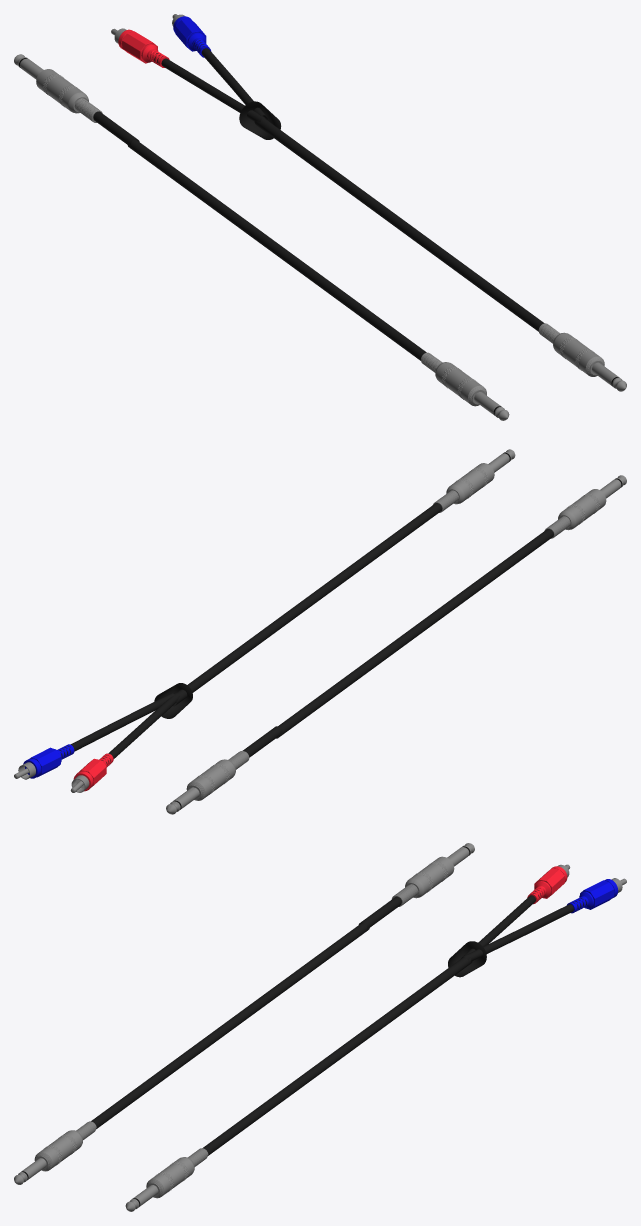
File: cables.fbx
The picture shows the model from 3 angles, top to bottom: view 1: azimuth 30°, elevation 25°; view 2: azimuth 150°, elevation 25°; view 3: azimuth 330°, elevation 25°; orthographic projection. The views are drawn at different scales.
Parts seen in each view (by area): view 1: RCA_cable.001, B_J_spring, B_J_Base.001, RCA_Base, B_J_Base, RCA_Base.001; view 2: RCA_cable.001, B_J_spring, B_J_Base.001, B_J_Base, RCA_Base.001, RCA_Base; view 3: RCA_cable.001, B_J_spring, B_J_Base.001, RCA_Base.001, RCA_Base.
Boxes of the visible parts, x1,y1,x2,y2 form: RCA_cable.001: [152, 40, 626, 391]; B_J_spring: [19, 54, 426, 360]; B_J_Base.001: [435, 362, 486, 406]; RCA_Base: [118, 29, 169, 67]; B_J_Base: [36, 69, 85, 113]; RCA_Base.001: [173, 16, 211, 57]; RCA_cable.001: [59, 449, 515, 764]; B_J_spring: [166, 529, 553, 813]; B_J_Base.001: [558, 489, 606, 530]; B_J_Base: [195, 760, 235, 800]; RCA_Base.001: [23, 744, 74, 778]; RCA_Base: [73, 753, 113, 791]; RCA_cable.001: [125, 889, 586, 1211]; B_J_spring: [91, 843, 474, 1129]; B_J_Base.001: [34, 1130, 82, 1171]; RCA_Base.001: [566, 879, 618, 913]; RCA_Base: [527, 866, 567, 904].
Bounding box in the file's own units: 11.22 × 1.63 × 54.26.
